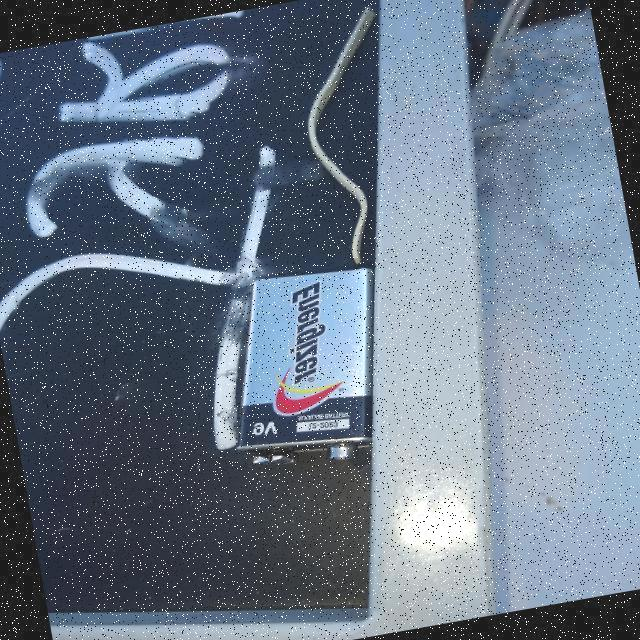9V: (233, 265, 373, 452)
